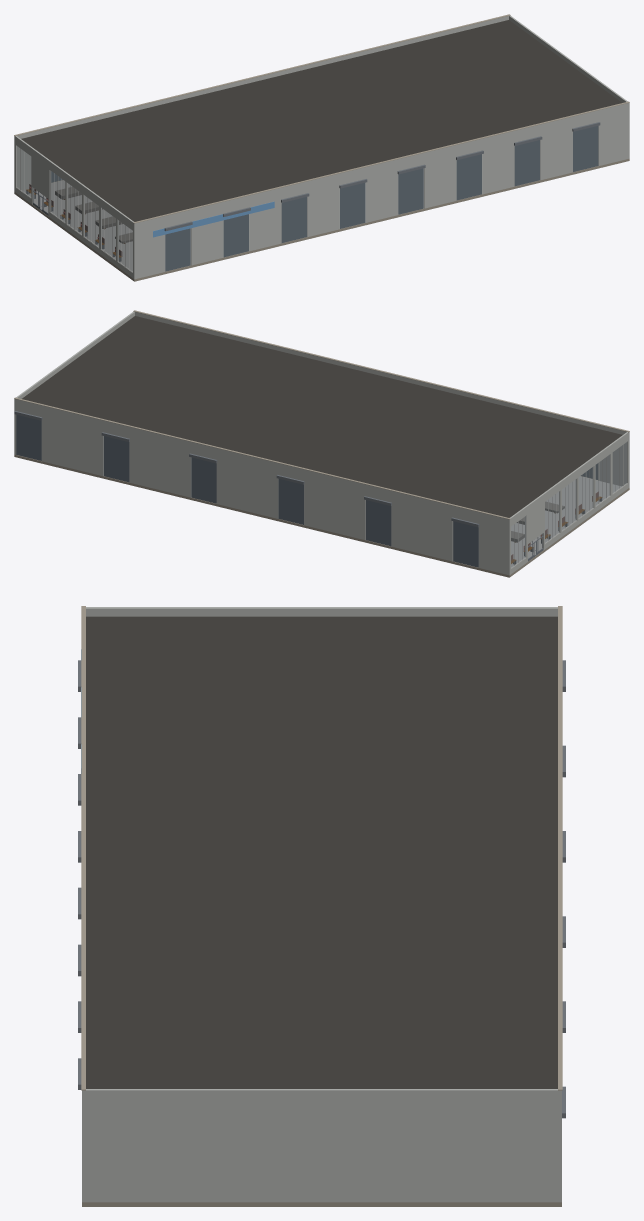
The model's file is helicopter_hangar.glb.
3 views of the same model, one above another, from view 1: azimuth 30°, elevation 25°; view 2: azimuth 150°, elevation 25°; view 3: azimuth 270°, elevation 25° (orthographic). The views are drawn at different scales.
Visible parts, largest first — view 1: LOD0, FURN; view 2: LOD0, FURN; view 3: LOD0.
Boxes of the visible parts, x1,y1,x2,y2 form: LOD0: (14,14,629,281); FURN: (26,184,132,261); LOD0: (14,310,629,577); FURN: (511,491,602,564); LOD0: (78,606,565,1206).
Size of what is drawn, in the model's own units: 100 by 11.33 by 42.7.
